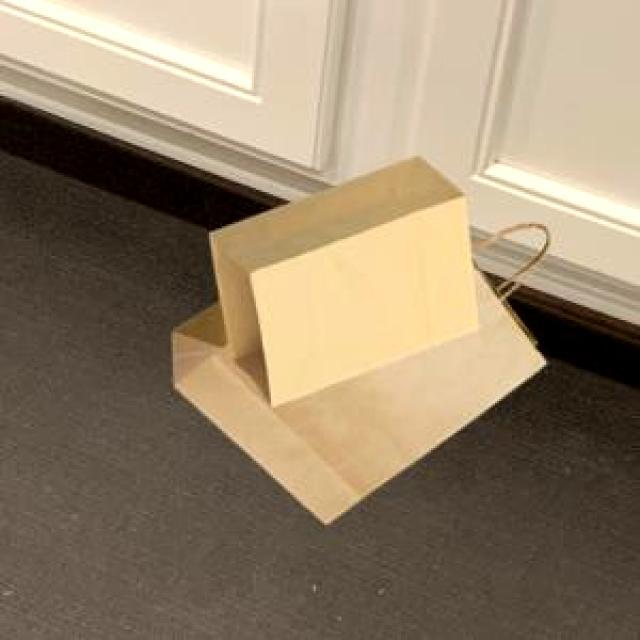Paper_Bag: (170, 220, 548, 520), (206, 154, 477, 404)
